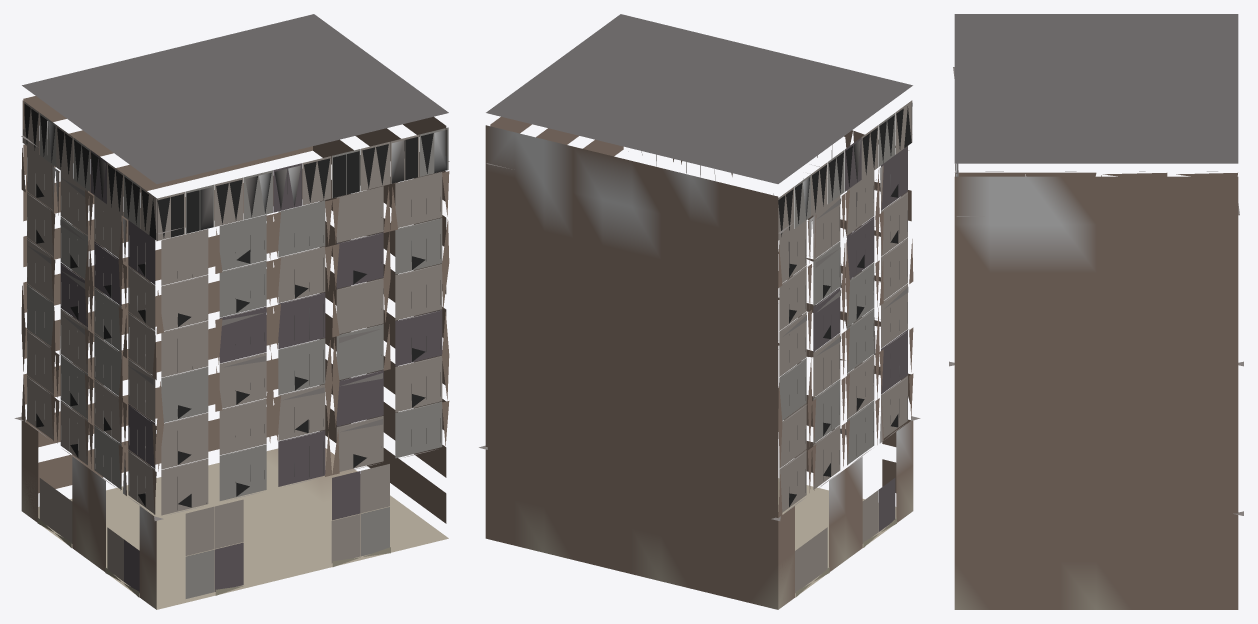
File: downtown_large_lod1.glb
The picture shows the model from 3 angles, left to right: view 1: azimuth 30°, elevation 25°; view 2: azimuth 150°, elevation 25°; view 3: azimuth 270°, elevation 25°; orthographic projection. The views are drawn at different scales.
Parts seen in each view (by area): view 1: downtown_large_lod1; view 2: downtown_large_lod1; view 3: downtown_large_lod1.
Boxes of the visible parts, <box> form: downtown_large_lod1: <box>14,14,449,609</box>; downtown_large_lod1: <box>479,14,920,609</box>; downtown_large_lod1: <box>949,14,1243,609</box>.
Size of the model in its own units: 20.64 by 27.8 by 16.64.
